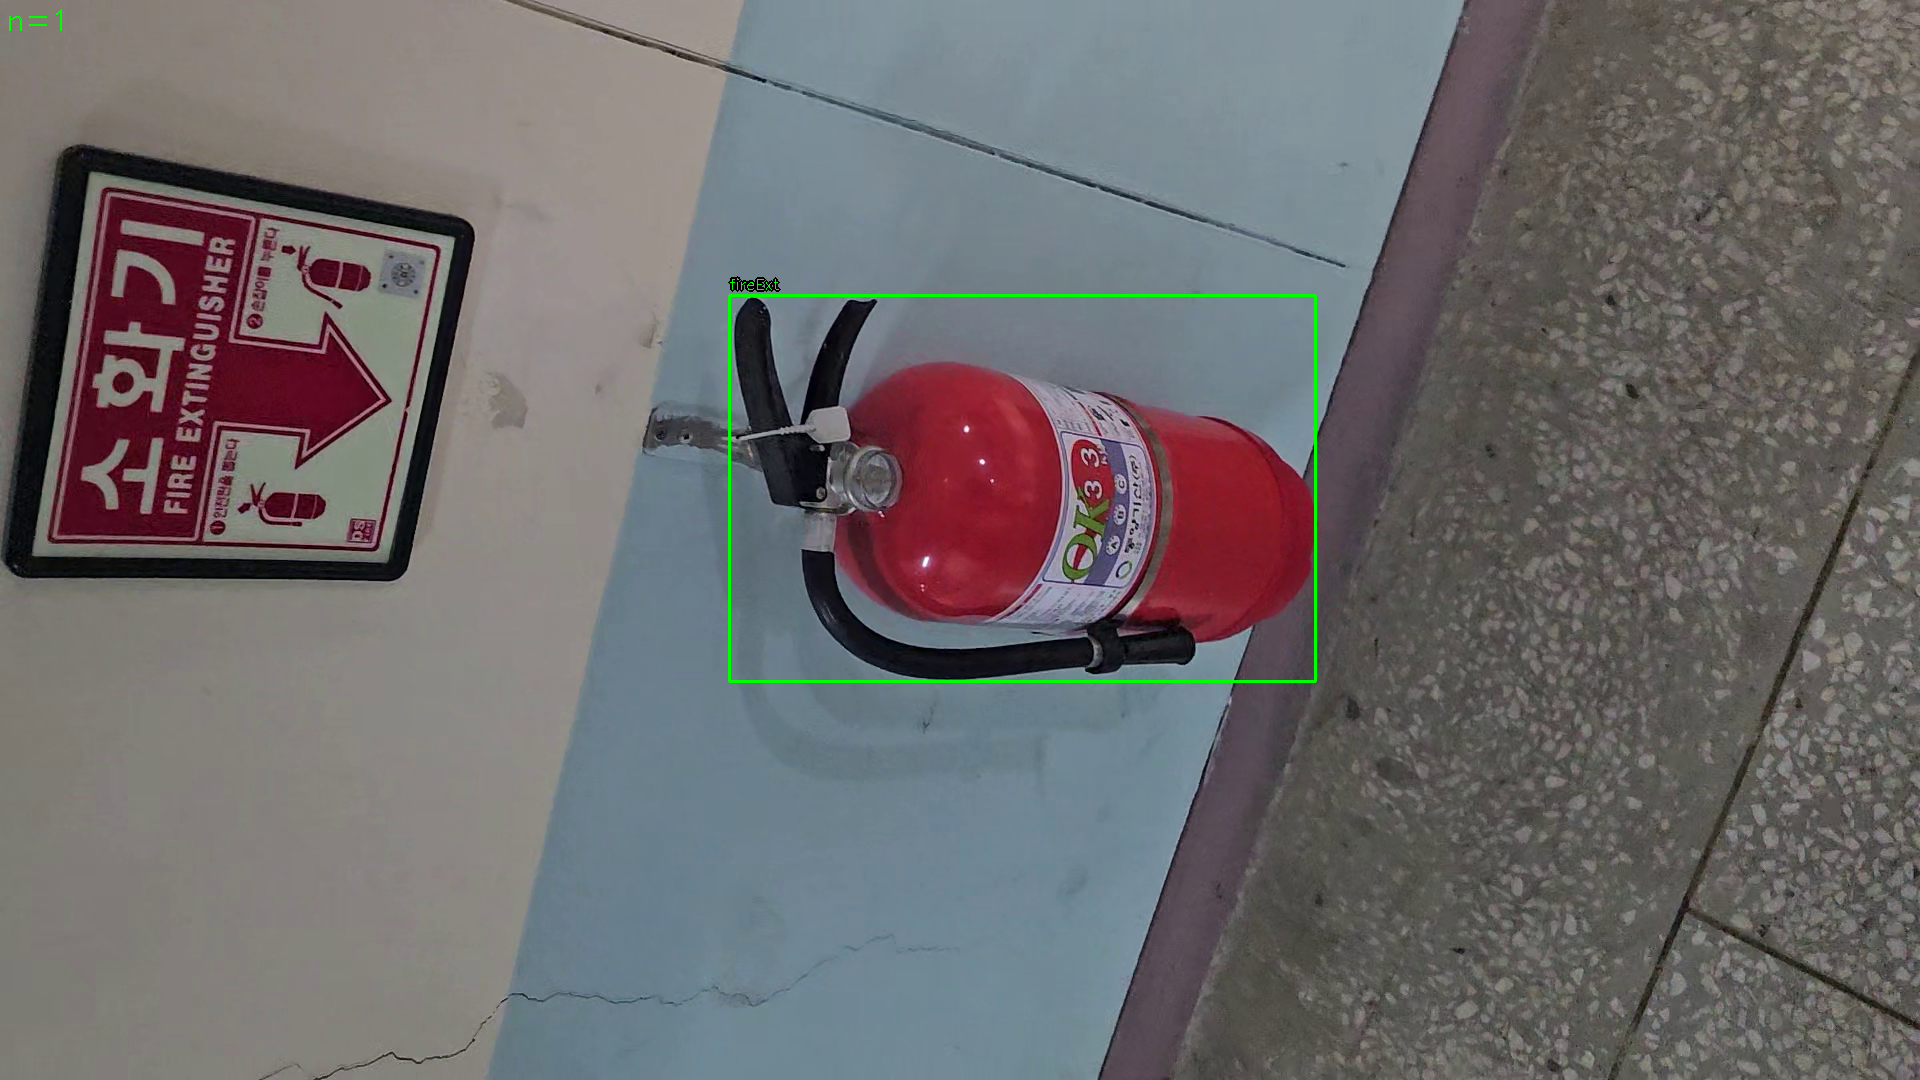lane: (729, 295, 1316, 682)
